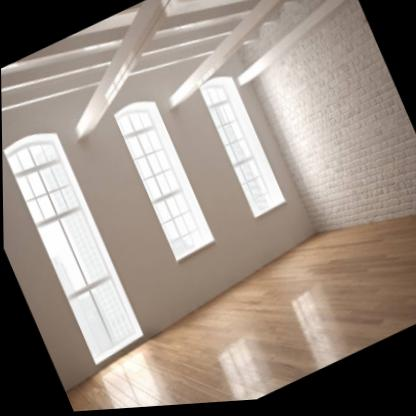Window: (1, 103, 144, 369), (110, 92, 219, 269), (194, 64, 289, 230)
Wooden floor: (65, 220, 416, 412)
